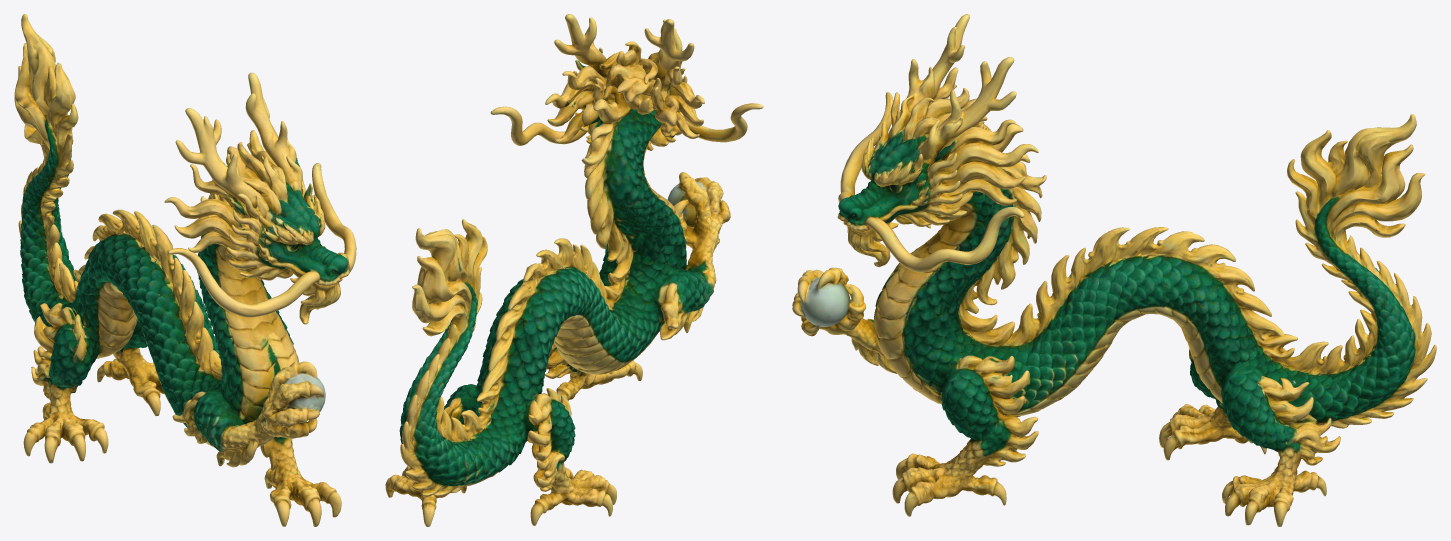
Rendered from dragon.glb.
3 views of the same model, side by side, from view 1: azimuth 30°, elevation 25°; view 2: azimuth 150°, elevation 25°; view 3: azimuth 270°, elevation 25° (orthographic). The views are drawn at different scales.
Parts seen in each view (by area): view 1: chinese-dragon; view 2: chinese-dragon; view 3: chinese-dragon.
Boxes of the visible parts, box(x1,y1,x2,y2) form: chinese-dragon: box(14, 14, 356, 526); chinese-dragon: box(385, 14, 763, 526); chinese-dragon: box(792, 14, 1436, 526).
Size of the model in its own units: 3.28 by 6.06 by 8.
Materials: 1 (1 with a texture image).
